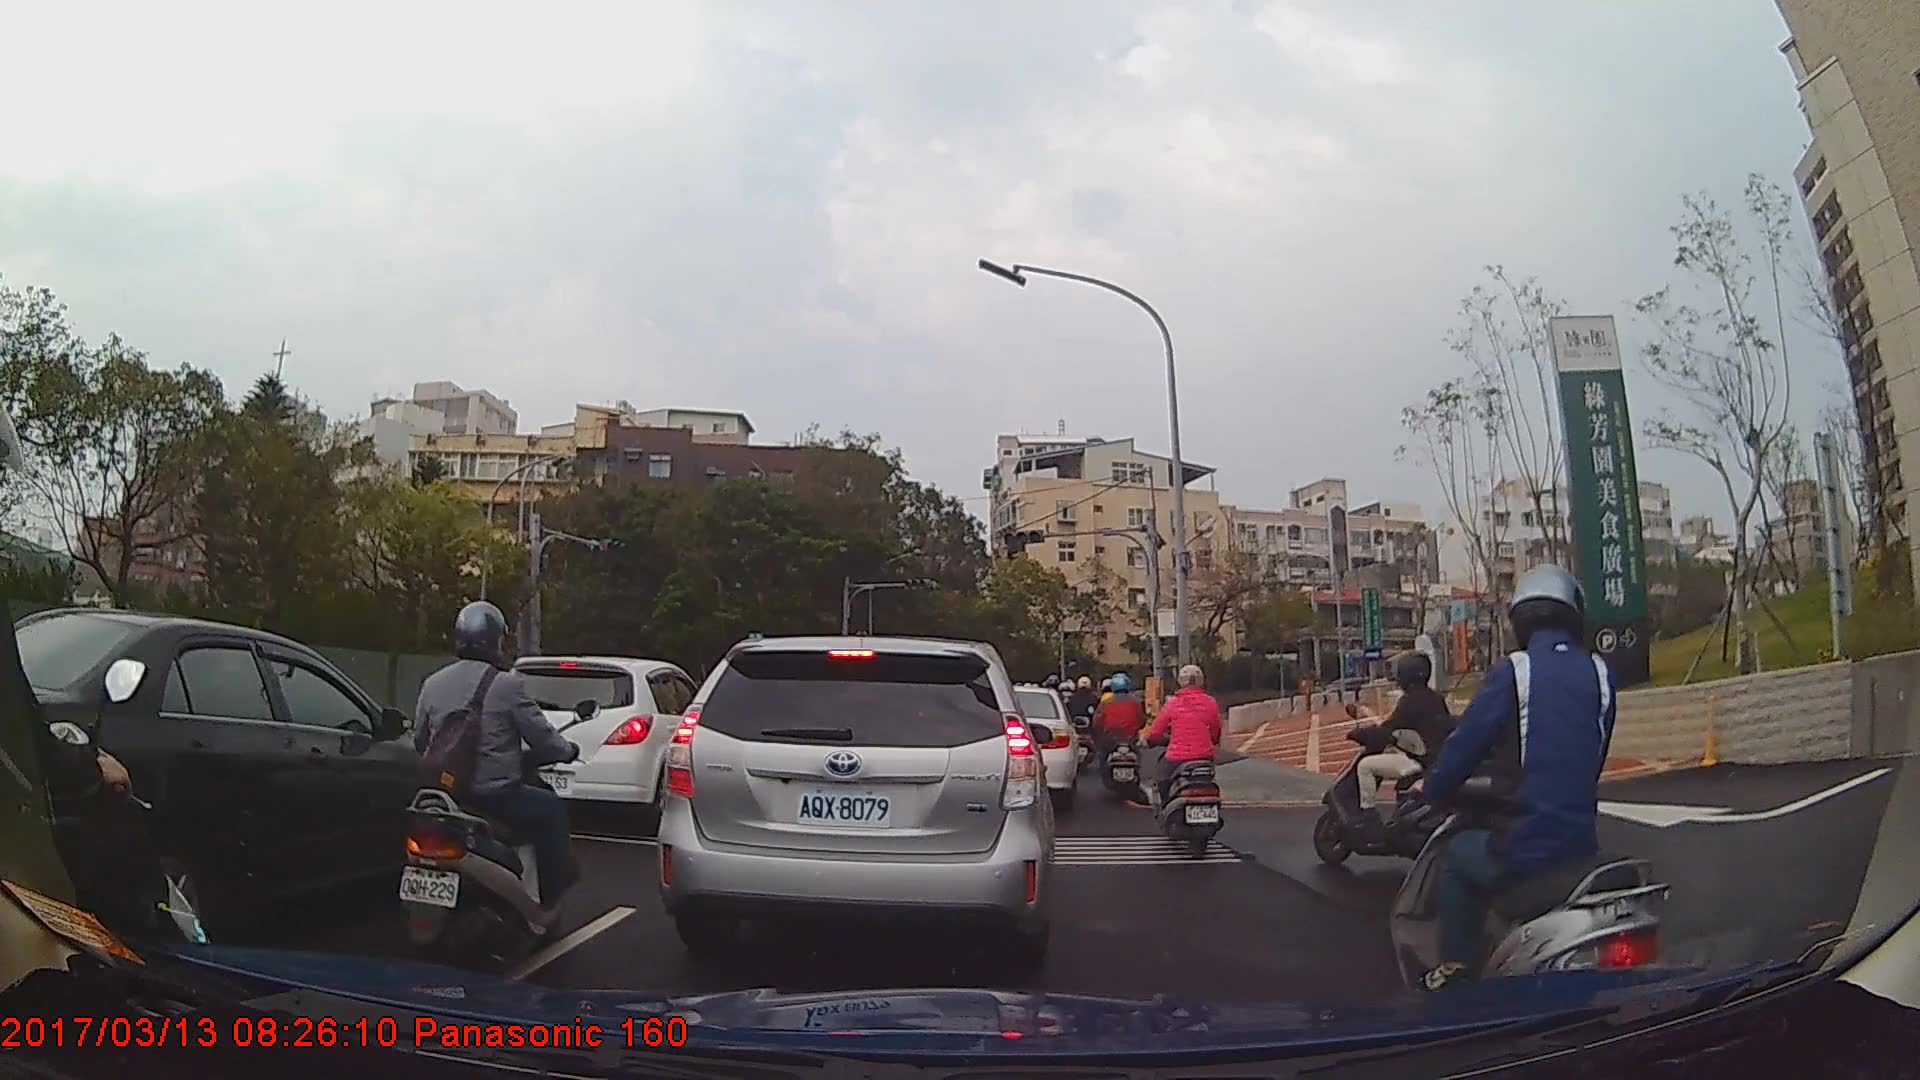rider: (1388, 564, 1673, 1050), (394, 600, 585, 976), (1313, 655, 1502, 870), (1153, 661, 1223, 859), (1091, 669, 1150, 805), (1070, 674, 1106, 773)
vehicle: (3, 607, 471, 935), (653, 634, 1053, 978), (473, 655, 720, 834), (965, 686, 1079, 809)
